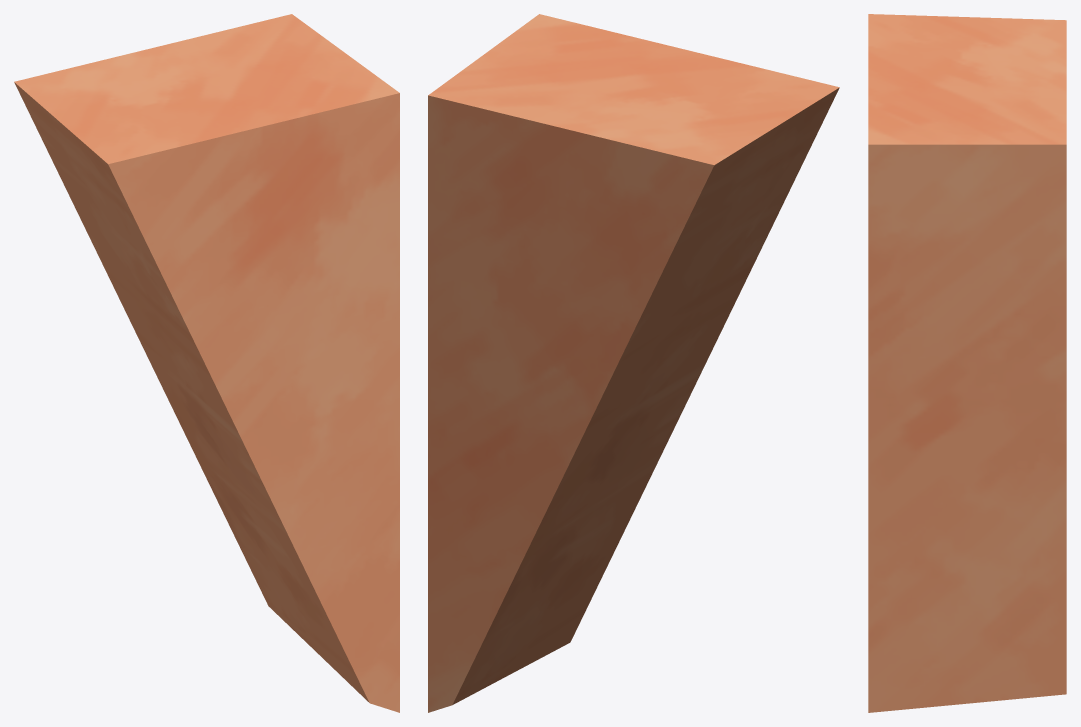
File: wall_window_s08.fbx
The picture shows the model from 3 angles, left to right: view 1: azimuth 30°, elevation 25°; view 2: azimuth 150°, elevation 25°; view 3: azimuth 270°, elevation 25°; orthographic projection. The views are drawn at different scales.
Visible parts, largest first — view 1: wall_window_s08; view 2: wall_window_s08; view 3: wall_window_s08.
Part boxes in pixels (<box>): wall_window_s08: <box>14,14,399,712</box>; wall_window_s08: <box>428,14,839,712</box>; wall_window_s08: <box>868,14,1066,712</box>.
Bounding box in the file's own units: 1.56 × 3.17 × 1.
